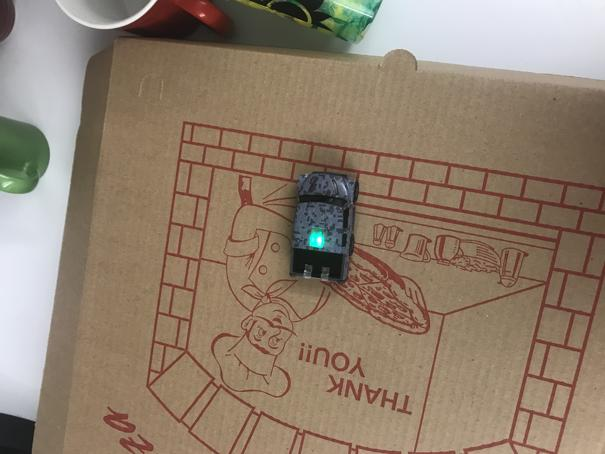MXT: (288, 170, 360, 283)
